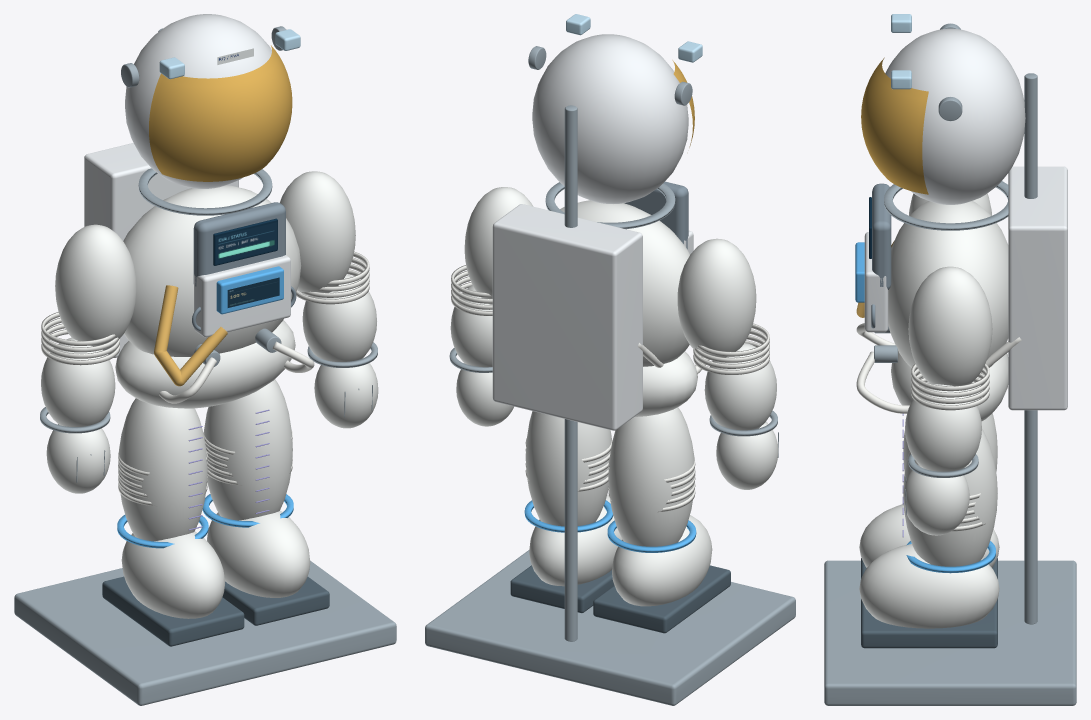
Rendered from eva_suit.glb.
The picture shows the model from 3 angles, left to right: view 1: azimuth 30°, elevation 25°; view 2: azimuth 150°, elevation 25°; view 3: azimuth 270°, elevation 25°; orthographic projection. The views are drawn at different scales.
Parts seen in each view (by area): view 1: Suit_Rack_Foot, Gold_Visor_Surface, Suit_Torso, Suit_Leg-1, Suit_Leg1, Helmet_Pressure_Shell, Upper_Arm-1, Suit_Hip, Boot-1, Boot1, Upper_Arm1, Suit_Life_Support (+19 smaller); view 2: Suit_Life_Support, Suit_Rack_Foot, Helmet_Pressure_Shell, Suit_Leg-1, Upper_Arm-1, Suit_Torso, Suit_Leg1, Boot-1, Suit_Rack_Spine, Forearm-1, Boot1, Boot_Sole-1 (+11 smaller); view 3: Suit_Rack_Foot, Helmet_Pressure_Shell, Suit_Life_Support, Suit_Torso, Upper_Arm1, Boot1, Gold_Visor_Surface, Suit_Leg1, Suit_Rack_Spine, Forearm1, Boot_Sole1, Glove1 (+17 smaller).
Part boxes in pixels (x1=…): Suit_Rack_Foot: x1=14, y1=560, x2=396, y2=705; Gold_Visor_Surface: x1=149, y1=45, x2=292, y2=181; Suit_Torso: x1=123, y1=185, x2=301, y2=356; Suit_Leg-1: x1=118, y1=398, x2=207, y2=541; Suit_Leg1: x1=204, y1=379, x2=292, y2=520; Helmet_Pressure_Shell: x1=125, y1=14, x2=271, y2=188; Upper_Arm-1: x1=55, y1=224, x2=136, y2=349; Suit_Hip: x1=115, y1=320, x2=295, y2=408; Boot-1: x1=121, y1=531, x2=224, y2=618; Boot1: x1=207, y1=510, x2=310, y2=597; Upper_Arm1: x1=280, y1=171, x2=355, y2=296; Suit_Life_Support: x1=84, y1=143, x2=238, y2=357; Suit_Life_Support: x1=492, y1=204, x2=642, y2=430; Suit_Rack_Foot: x1=425, y1=550, x2=795, y2=705; Helmet_Pressure_Shell: x1=532, y1=34, x2=688, y2=203; Suit_Leg-1: x1=608, y1=407, x2=695, y2=546; Upper_Arm-1: x1=677, y1=238, x2=756, y2=359; Suit_Torso: x1=560, y1=200, x2=690, y2=366; Suit_Leg1: x1=525, y1=411, x2=611, y2=526; Boot-1: x1=612, y1=515, x2=712, y2=606; Suit_Rack_Spine: x1=564, y1=105, x2=577, y2=641; Forearm-1: x1=704, y1=343, x2=776, y2=430; Boot1: x1=529, y1=495, x2=622, y2=586; Boot_Sole-1: x1=593, y1=565, x2=730, y2=633; Suit_Rack_Foot: x1=824, y1=560, x2=1076, y2=705; Helmet_Pressure_Shell: x1=885, y1=28, x2=1025, y2=204; Suit_Life_Support: x1=1008, y1=166, x2=1067, y2=410; Suit_Torso: x1=888, y1=201, x2=1008, y2=372; Upper_Arm1: x1=908, y1=266, x2=992, y2=385; Boot1: x1=859, y1=544, x2=999, y2=628; Gold_Visor_Surface: x1=861, y1=57, x2=928, y2=194; Suit_Leg1: x1=903, y1=429, x2=997, y2=566; Suit_Rack_Spine: x1=1024, y1=73, x2=1037, y2=624; Forearm1: x1=905, y1=384, x2=981, y2=471; Boot_Sole1: x1=861, y1=599, x2=997, y2=648; Glove1: x1=903, y1=464, x2=969, y2=535.
Bounding box in the file's own units: 1.08 × 1.91 × 0.72.
17 materials, 4 textured.
